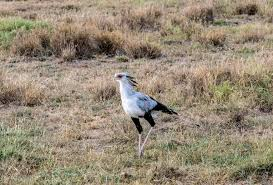Walking: (95, 67, 184, 168)
